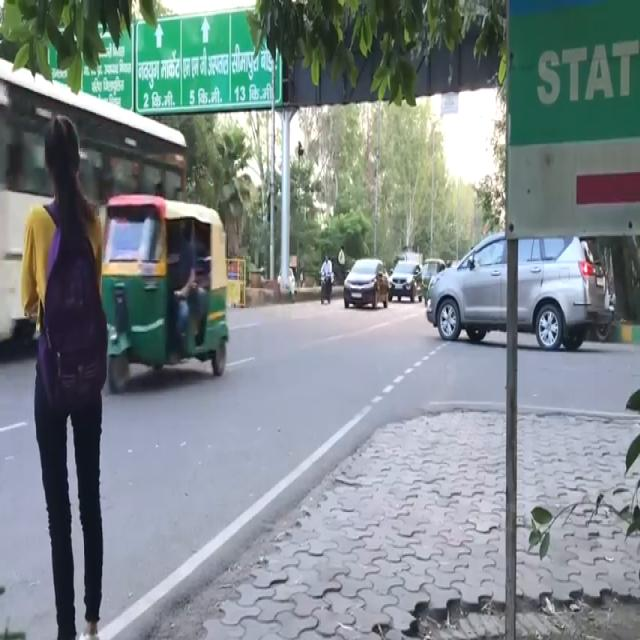MOTORCYCLE: (320, 270, 332, 304)
SED: (343, 252, 390, 310)
SUV: (428, 234, 616, 354)
